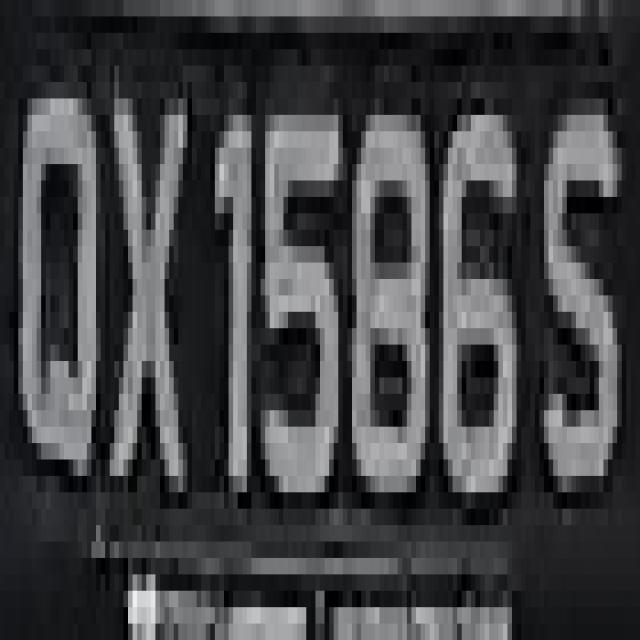1: (215, 16, 265, 492)
5: (251, 49, 343, 525)
6: (430, 82, 530, 542)
8: (343, 49, 430, 542)
Q: (5, 50, 105, 492)
S: (526, 49, 626, 525)
X: (96, 66, 197, 542)
